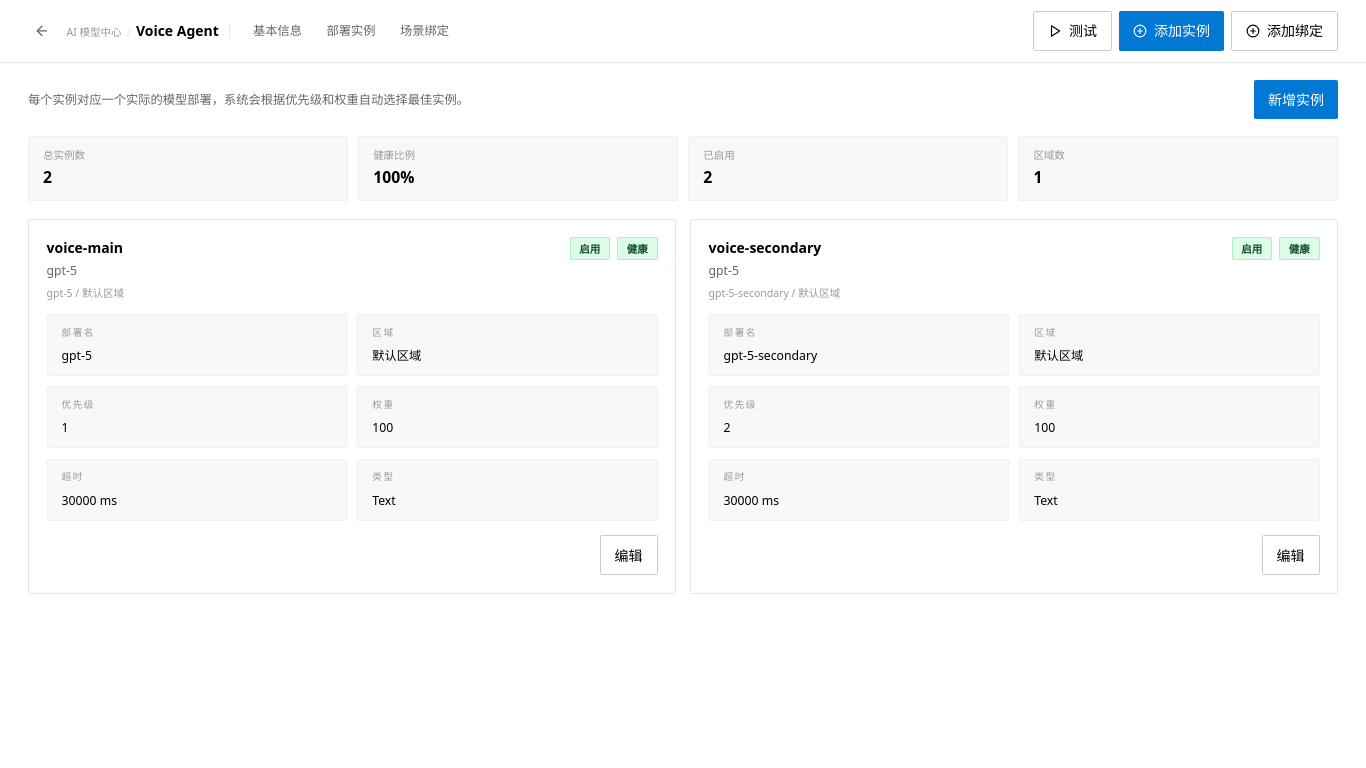
Test: ModelInstancesTab › resets the form when closing one instance drawer and opening another
This screenshot has width=1366, height=768.
Expected: the heading "Voice Agent" is shown, top-left (136, 20), bottom-right (219, 41)
Open drawer for first instance
Click the 1st button "编辑".
click(628, 555)  # box top-left (600, 535), bottom-right (658, 575)
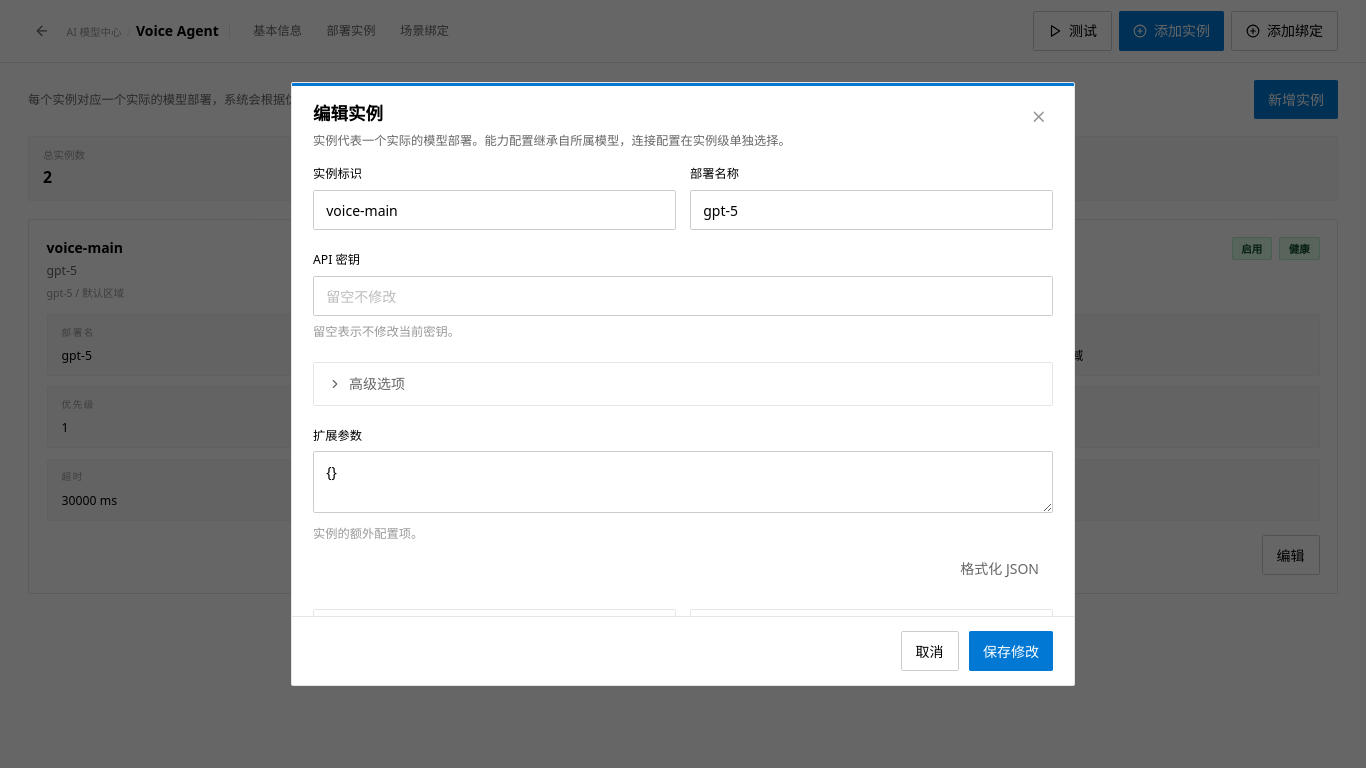
Result: the field showing "voice-main" is shown at top-left (313, 190), bottom-right (676, 230)
Close and open drawer for second instance
Click the button named "关闭".
click(1039, 117)  # box top-left (1025, 103), bottom-right (1053, 131)
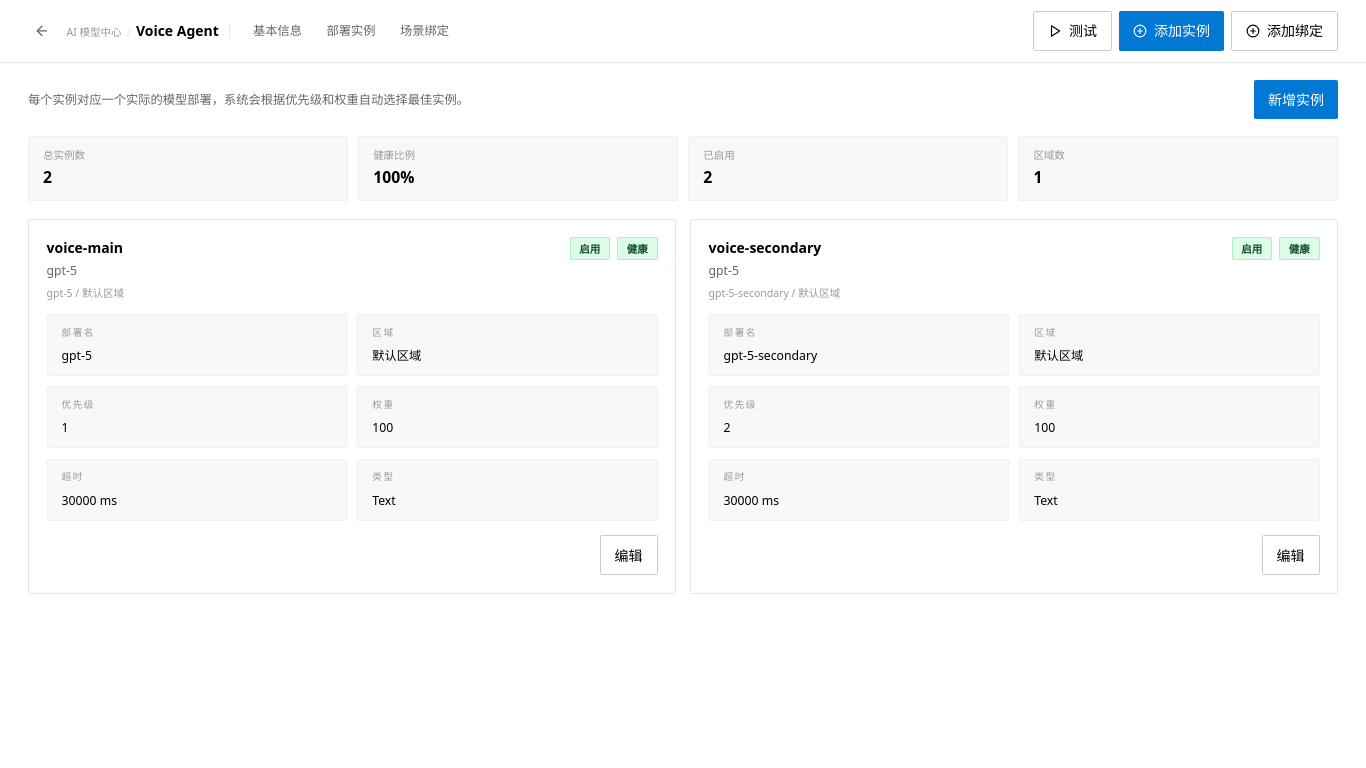
Click the 2nd button "编辑".
click(1290, 555)  # box top-left (1262, 535), bottom-right (1320, 575)
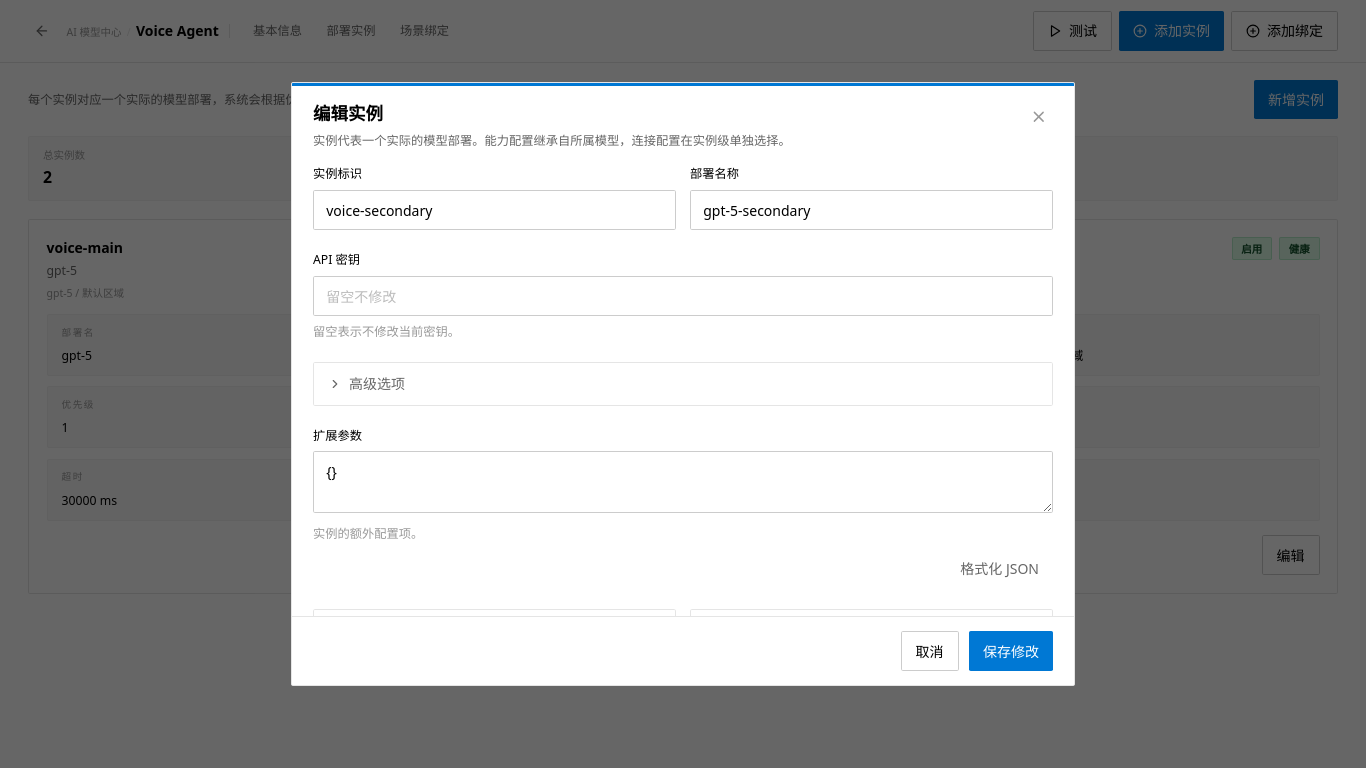
Result: the field showing "voice-secondary" is shown at top-left (313, 190), bottom-right (676, 230)
